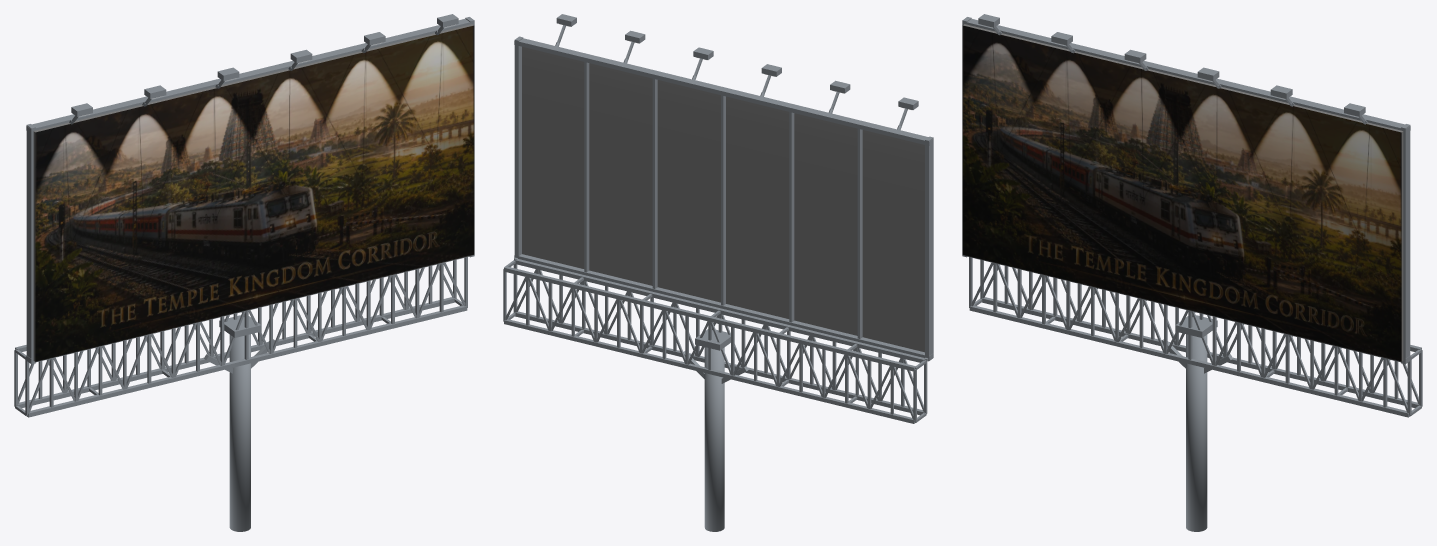
Rendered from TTKC_AD_BOARD.glb.
3 renders of one model, left to right at view 1: azimuth 30°, elevation 25°; view 2: azimuth 150°, elevation 25°; view 3: azimuth 330°, elevation 25°, orthographic. The views are drawn at different scales.
Visible parts, largest first — view 1: MAIN_BILLBOARD_PANEL, MAIN_SUPPORT_POLE, Truss_Lower_Rail, Horizontal_Board_Frame.001, Truss_Lower_Rail.001, Vertical_Board_Frame, Horizontal_Board_Frame, Pole_Top_Mount; view 2: MAIN_BILLBOARD_PANEL, Horizontal_Board_Frame.001, MAIN_SUPPORT_POLE, Truss_Upper_Rail.001, Horizontal_Board_Frame, Truss_Upper_Rail, Truss_Lower_Rail.001, Vertical_Board_Frame, Truss_Lower_Rail, Vertical_Board_Frame.001, Rear_Vertical_Support, Rear_Vertical_Support.003 (+3 smaller); view 3: MAIN_BILLBOARD_PANEL, MAIN_SUPPORT_POLE, Truss_Lower_Rail, Horizontal_Board_Frame.001, Truss_Lower_Rail.001, Vertical_Board_Frame.001, Horizontal_Board_Frame, Pole_Top_Mount.
Part boxes in pixels (<box>): MAIN_BILLBOARD_PANEL: <box>33,24,474,361</box>; MAIN_SUPPORT_POLE: <box>229,334,250,531</box>; Truss_Lower_Rail: <box>27,305,467,417</box>; Horizontal_Board_Frame.001: <box>26,19,474,133</box>; Truss_Lower_Rail.001: <box>16,297,455,407</box>; Vertical_Board_Frame: <box>26,124,35,364</box>; Horizontal_Board_Frame: <box>26,251,474,363</box>; Pole_Top_Mount: <box>219,315,261,337</box>; MAIN_BILLBOARD_PANEL: <box>522,46,924,352</box>; Horizontal_Board_Frame.001: <box>514,38,933,145</box>; MAIN_SUPPORT_POLE: <box>704,347,724,531</box>; Truss_Upper_Rail.001: <box>504,266,916,371</box>; Horizontal_Board_Frame: <box>514,254,933,360</box>; Truss_Upper_Rail: <box>514,259,925,362</box>; Truss_Lower_Rail.001: <box>504,319,915,423</box>; Vertical_Board_Frame: <box>925,136,933,361</box>; Truss_Lower_Rail: <box>514,311,924,415</box>; Vertical_Board_Frame.001: <box>514,36,523,257</box>; Rear_Vertical_Support: <box>857,128,862,338</box>; Rear_Vertical_Support.003: <box>652,78,657,288</box>; MAIN_BILLBOARD_PANEL: <box>962,24,1403,361</box>; MAIN_SUPPORT_POLE: <box>1186,334,1207,531</box>; Truss_Lower_Rail: <box>969,305,1409,417</box>; Horizontal_Board_Frame.001: <box>962,19,1410,133</box>; Truss_Lower_Rail.001: <box>981,297,1420,407</box>; Vertical_Board_Frame.001: <box>1401,124,1410,364</box>; Horizontal_Board_Frame: <box>962,251,1410,363</box>; Pole_Top_Mount: <box>1175,315,1217,337</box>.
Size of the model in its own units: 18.2 by 18.93 by 2.51.
Materials: 5 (5 with a texture image).
